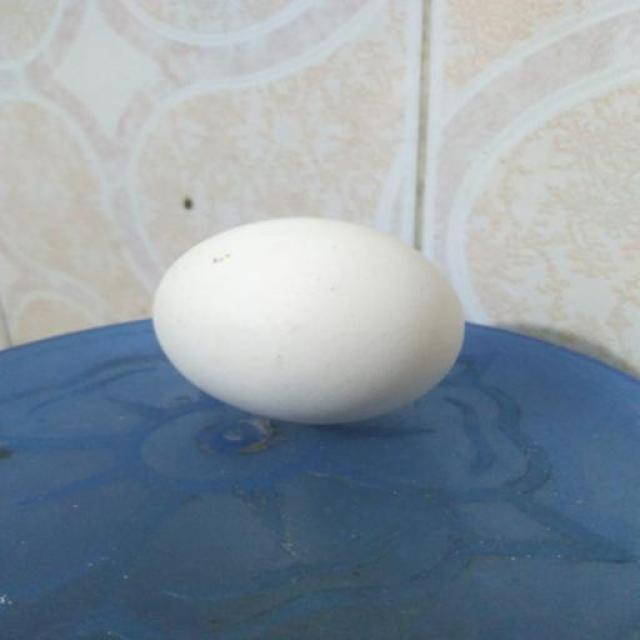telur: (152, 219, 462, 423)
